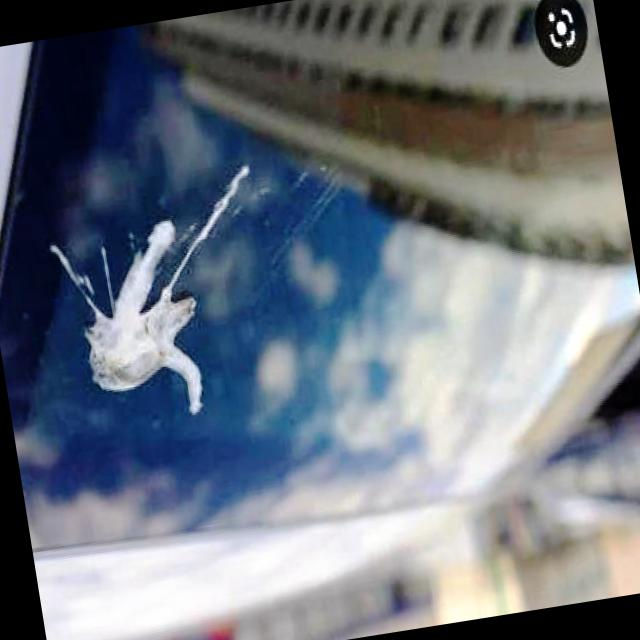Bird Poop: (52, 222, 202, 414), (185, 169, 248, 263)
